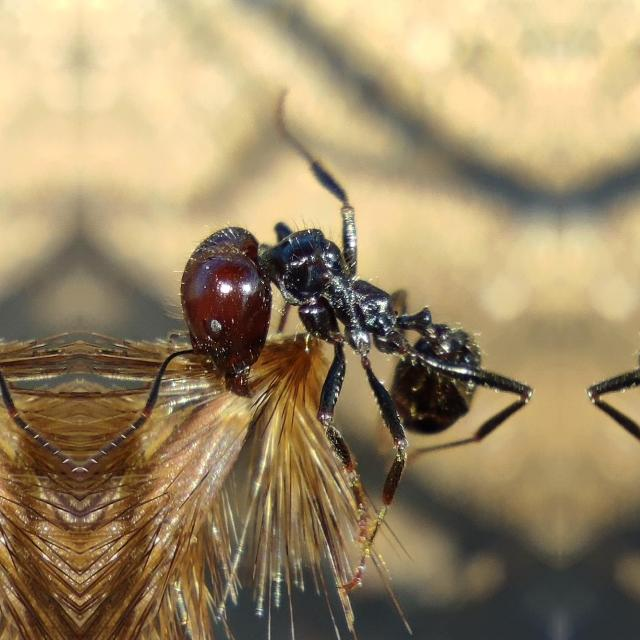Messor: (156, 156, 524, 478)
